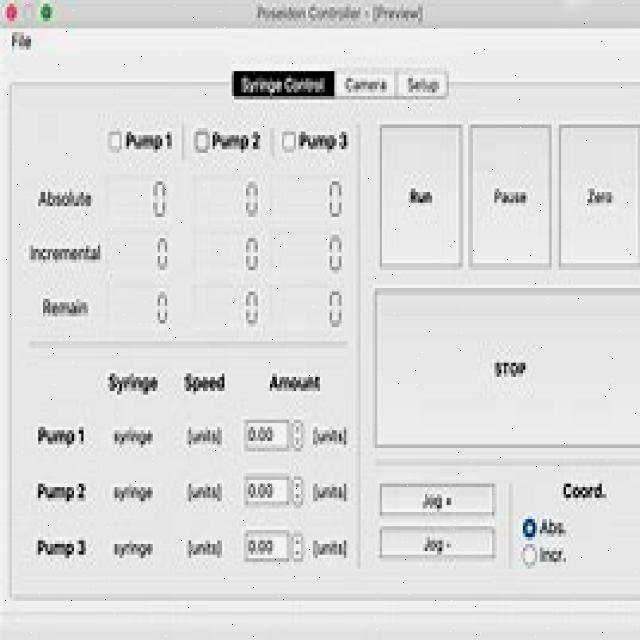button: (372, 284, 640, 450), (378, 118, 463, 270), (468, 120, 552, 271), (556, 121, 640, 267), (377, 523, 497, 559), (379, 481, 497, 516), (32, 0, 56, 25), (17, 0, 36, 29), (2, 0, 17, 22)
checkbox: (192, 125, 211, 156), (281, 130, 297, 154), (107, 129, 123, 152)
input: (265, 170, 347, 228), (265, 280, 347, 335), (264, 226, 344, 281), (103, 168, 177, 225), (102, 225, 176, 278), (192, 170, 260, 226), (193, 230, 262, 280), (190, 283, 259, 333), (106, 281, 175, 329)
label: (250, 0, 430, 27), (31, 529, 98, 566), (34, 178, 97, 214), (557, 472, 618, 509), (31, 475, 90, 513), (23, 237, 102, 265), (39, 289, 91, 331), (104, 364, 161, 400), (178, 364, 232, 400), (33, 416, 86, 452), (125, 118, 175, 156), (182, 418, 228, 458), (110, 532, 165, 565), (108, 420, 154, 459), (212, 124, 268, 156), (298, 125, 351, 156), (267, 371, 328, 396), (110, 478, 160, 508), (182, 477, 228, 509), (309, 478, 353, 510), (310, 423, 351, 451), (181, 533, 229, 556), (310, 537, 352, 561), (539, 514, 573, 540), (6, 30, 34, 60), (539, 545, 569, 565)
radio: (520, 543, 538, 568), (521, 514, 538, 540)
tabControl: (229, 64, 462, 107)
upDown: (241, 469, 307, 509), (241, 525, 306, 564), (242, 413, 304, 453)
